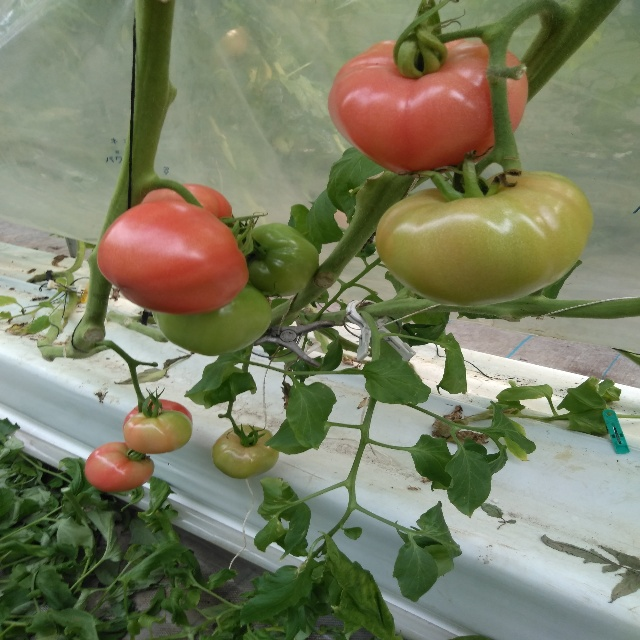b_fully_ripened: (328, 37, 528, 177), (97, 201, 249, 315), (123, 399, 193, 432)
b_green: (150, 282, 273, 356), (238, 223, 319, 297)
b_half_ripened: (375, 170, 595, 307), (141, 183, 236, 227), (212, 425, 280, 479), (85, 441, 155, 492), (124, 409, 192, 454)
